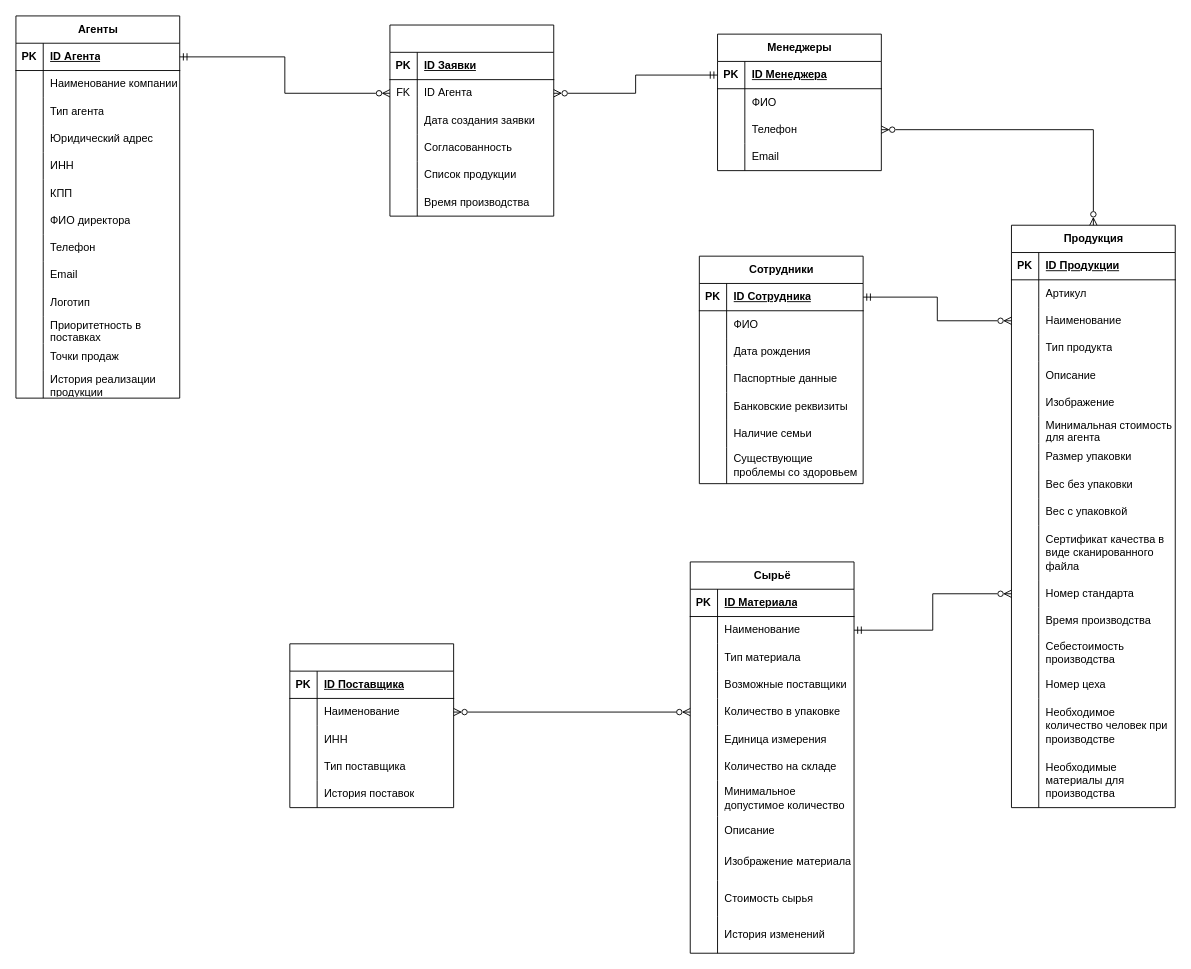
Some shapes in this 1191 by 969 pixel diagram are drawn without their labels. The shapes that lost their labels are listed below. From the top down, each one's box as (x1, y1, x2, y2) in pixels, then its label:
(389, 24, 554, 216): Заявка
(289, 643, 454, 808): Поставщики
